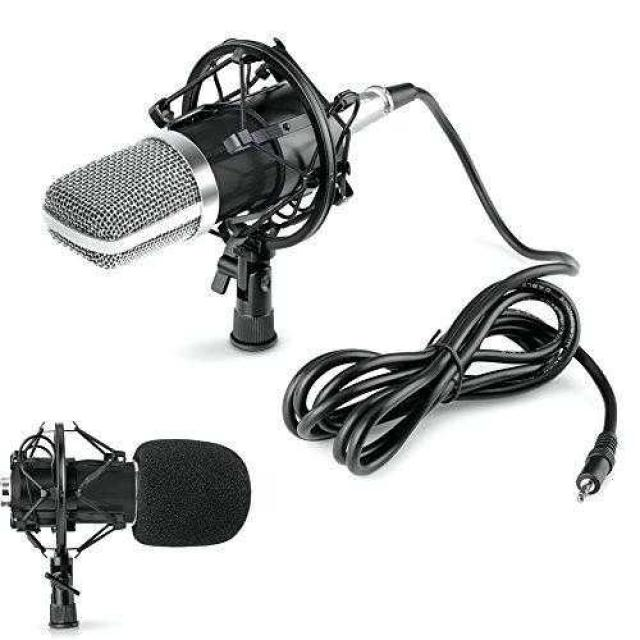microphone: (47, 74, 393, 265), (6, 438, 256, 546)
